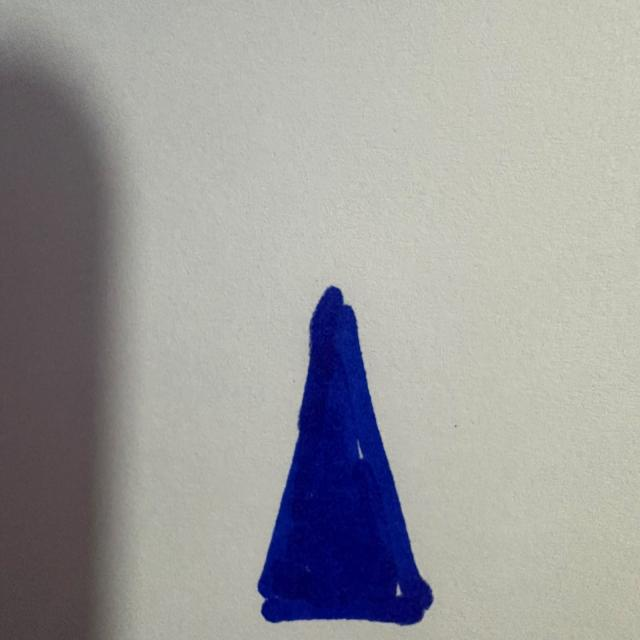Triangle: (258, 286, 432, 624)
